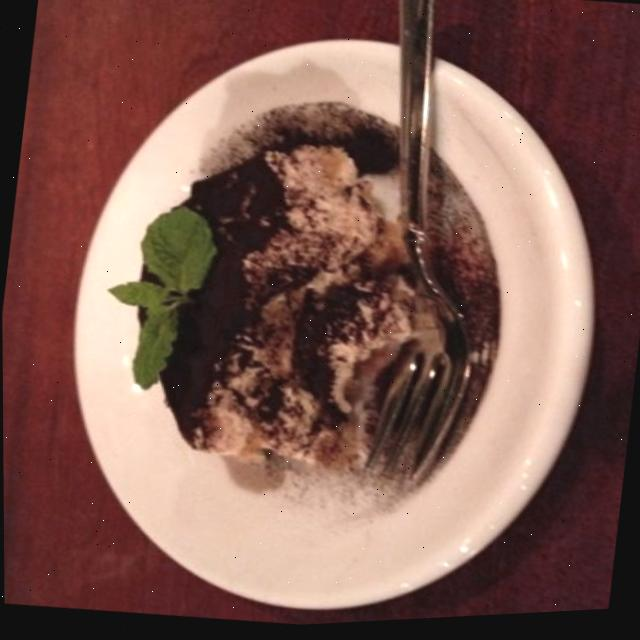蛋糕甜品: (16, 0, 636, 639)
